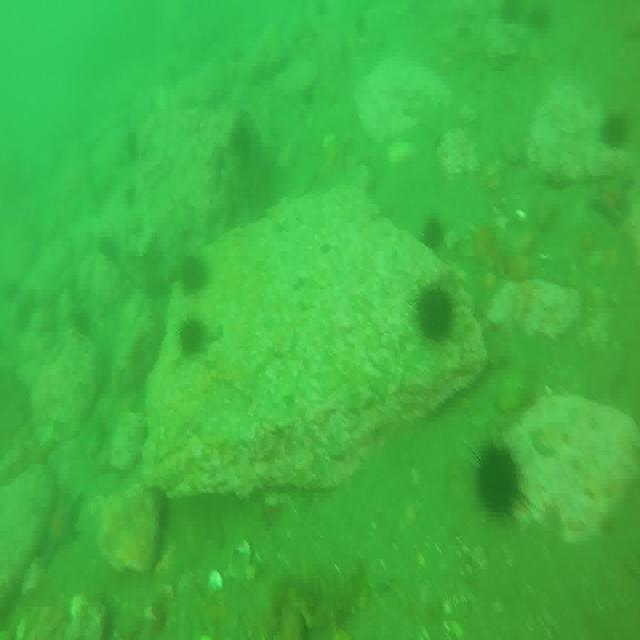echinus: (476, 439, 520, 517), (416, 279, 456, 344), (182, 252, 208, 298), (600, 112, 625, 155), (182, 318, 206, 352), (421, 214, 445, 248)
starfish: (42, 487, 82, 561)
